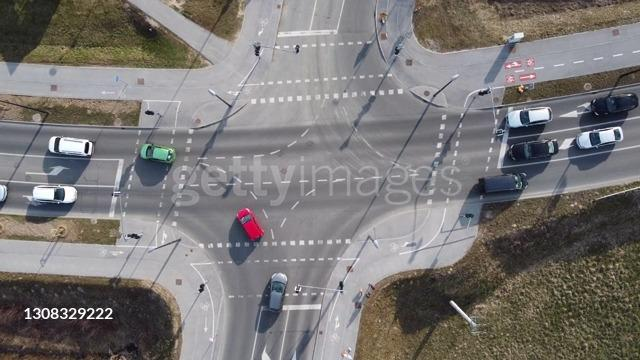car: (472, 170, 536, 197), (29, 181, 85, 211), (44, 130, 98, 160), (230, 202, 268, 244), (262, 269, 294, 317), (586, 90, 638, 118), (506, 138, 560, 164), (570, 126, 628, 150), (498, 105, 554, 127), (138, 139, 174, 167), (0, 182, 12, 207)
